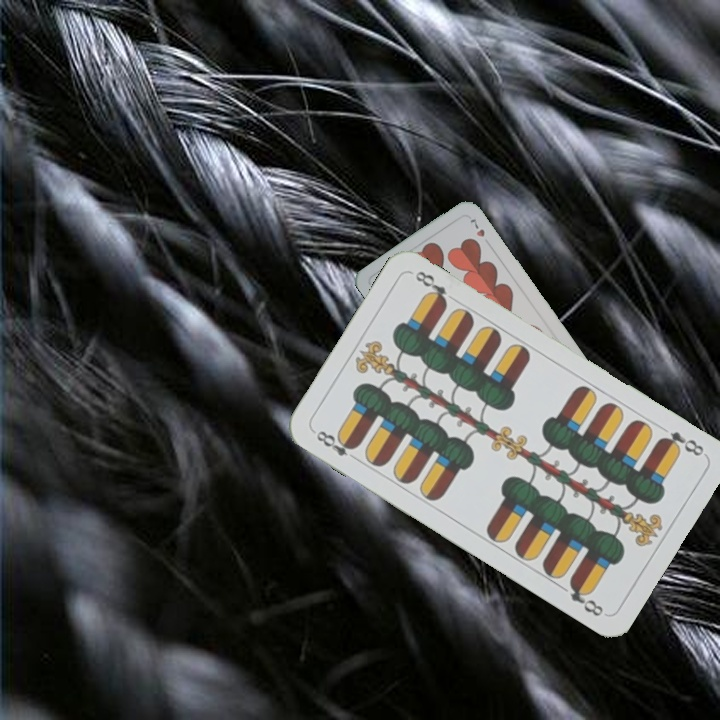E8: (312, 426, 362, 464), (654, 427, 707, 459)
